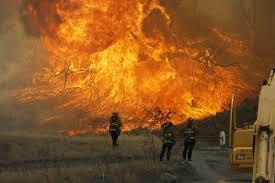fire: (23, 0, 269, 137)
